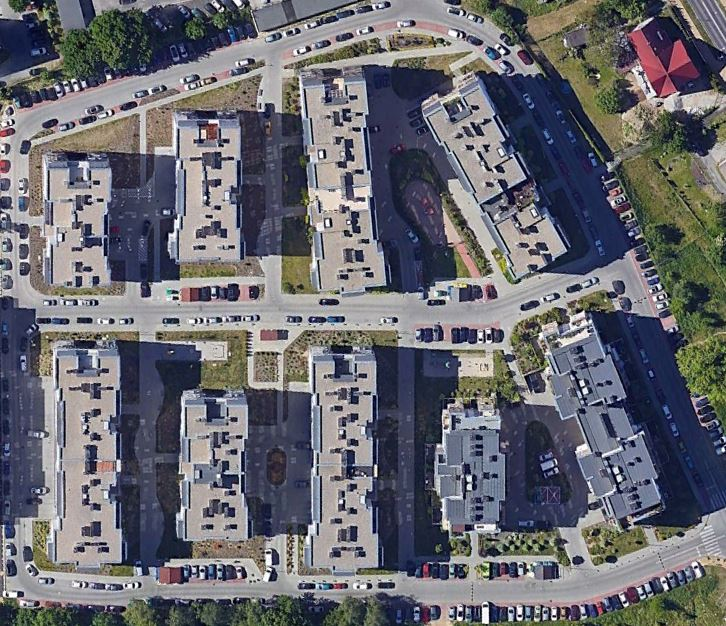block of flats: (418, 69, 577, 284), (540, 309, 674, 538), (295, 58, 399, 302), (299, 346, 391, 580), (43, 337, 127, 573), (162, 105, 247, 266), (176, 388, 256, 546), (37, 149, 118, 299), (429, 396, 506, 538)
